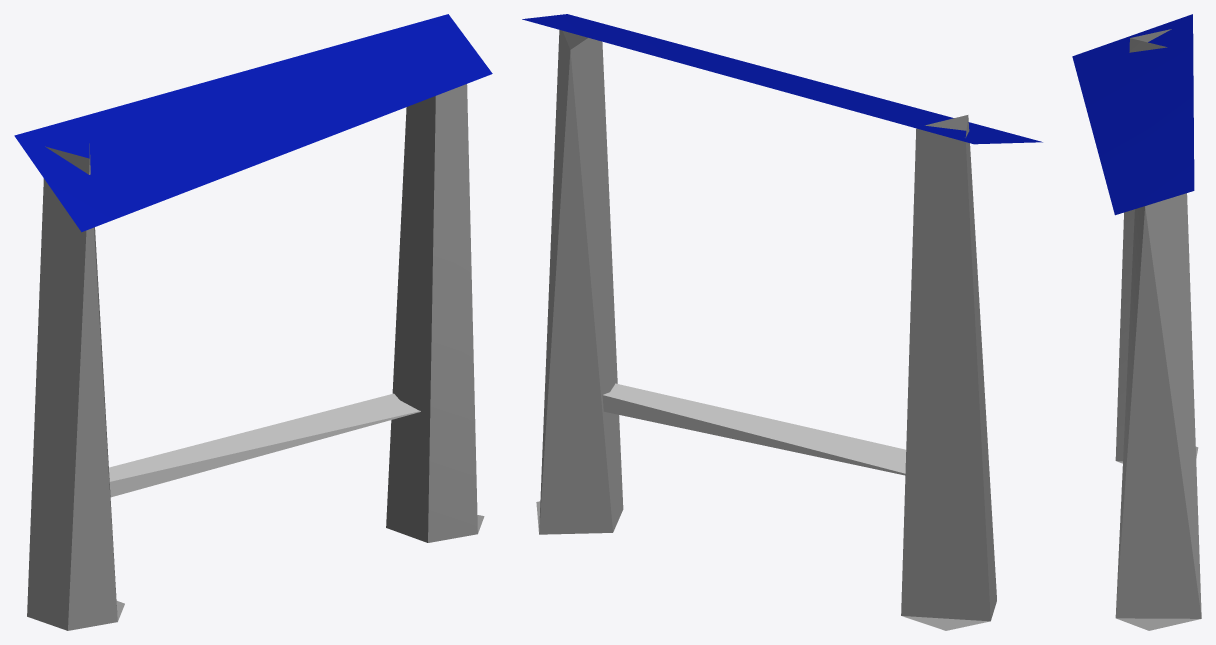
The model's file is PontoDeOnibusLOD2.fbx.
3 views of the same model, side by side, from view 1: azimuth 30°, elevation 25°; view 2: azimuth 150°, elevation 25°; view 3: azimuth 270°, elevation 25° (orthographic). The views are drawn at different scales.
Parts seen in each view (by area): view 1: PontoDeOnibusPequenoLOD2; view 2: PontoDeOnibusPequenoLOD2; view 3: PontoDeOnibusPequenoLOD2.
Part boxes in pixels (<box>): PontoDeOnibusPequenoLOD2: <box>14,14,492,630</box>; PontoDeOnibusPequenoLOD2: <box>522,14,1042,630</box>; PontoDeOnibusPequenoLOD2: <box>1072,14,1201,630</box>.
Size of the model in its own units: 200 by 209 by 55.97.
